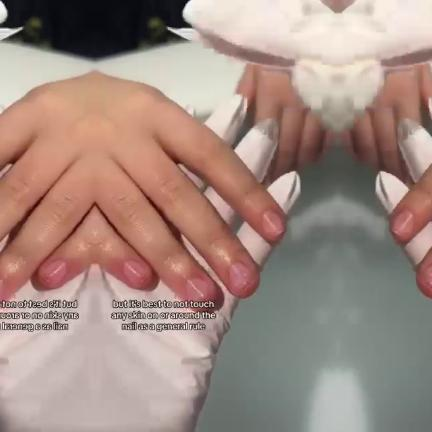Nail: (226, 262, 252, 290), (261, 210, 286, 238), (388, 210, 413, 238), (183, 277, 209, 300), (122, 260, 146, 284), (42, 260, 66, 284), (422, 264, 432, 290), (0, 279, 5, 299)
